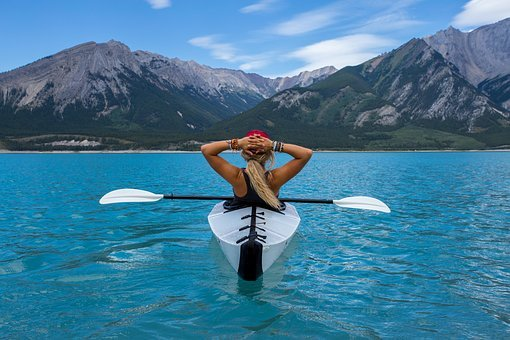mountain: (6, 40, 509, 133)
person: (209, 128, 306, 209)
sea: (1, 152, 510, 338)
sky: (1, 2, 507, 60)
